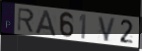1: (79, 14, 87, 40)
2: (120, 19, 134, 46)
6: (59, 11, 75, 40)
A: (34, 9, 57, 37)
R: (17, 7, 35, 34)
V: (97, 16, 118, 43)
